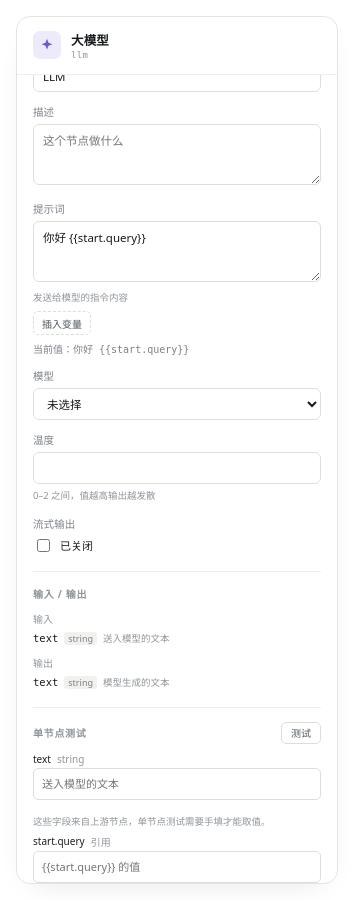
it: 单节点测试（R5-8） › 测试当前节点并展示输出
Earlier steps of the test are not shown.
(page scrolled)
Type "一封长邮件" into the field with placeholder "{{start.query}} 的值" at (177, 866), box [33,850,321,882]
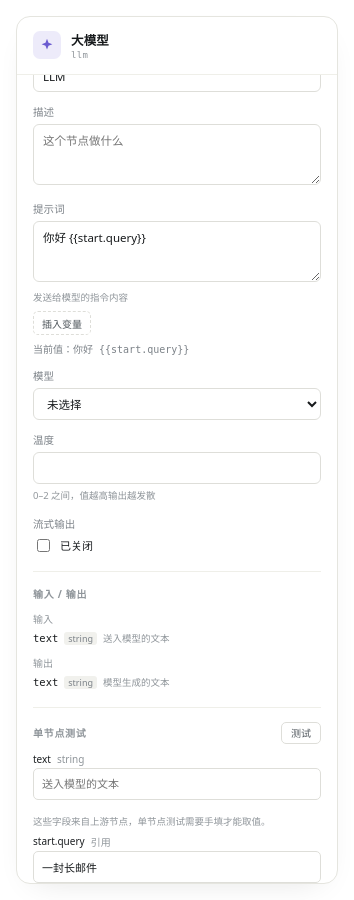
Click the button "测试" at (301, 732), box [281,722,321,744]
(page scrolled)
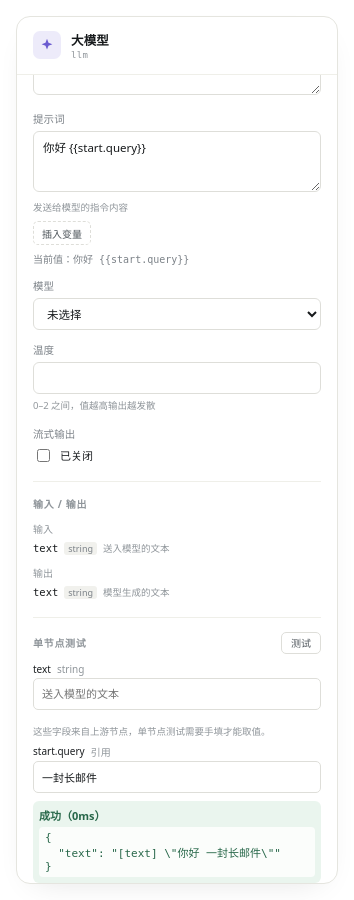
Now the text "成功（0ms）" is shown, box [39,808,106,822]
